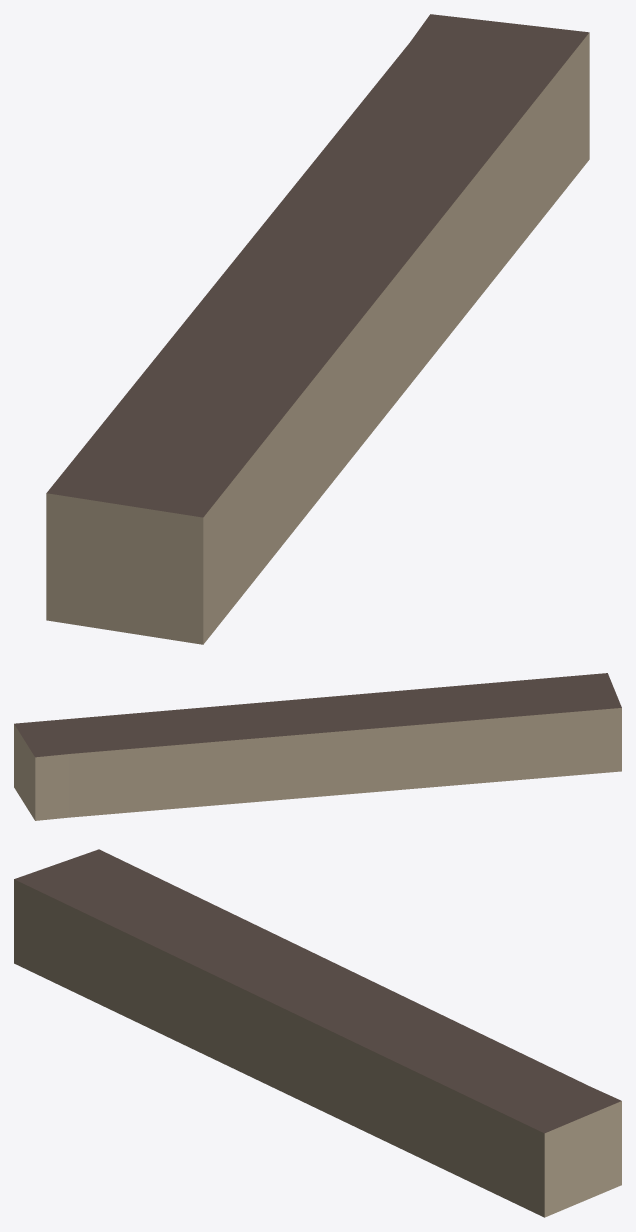
The picture shows the model from 3 angles, top to bottom: view 1: azimuth 30°, elevation 25°; view 2: azimuth 150°, elevation 25°; view 3: azimuth 270°, elevation 25°; orthographic projection. The views are drawn at different scales.
Visible parts, largest first — view 1: HP-w1515076936; view 2: HP-w1515076936; view 3: HP-w1515076936.
Boxes of the visible parts, <box> form: HP-w1515076936: <box>46,14,589,644</box>; HP-w1515076936: <box>14,673,621,820</box>; HP-w1515076936: <box>14,849,621,1217</box>.
Size of the model in its own units: 65.11 by 9 by 58.86.
